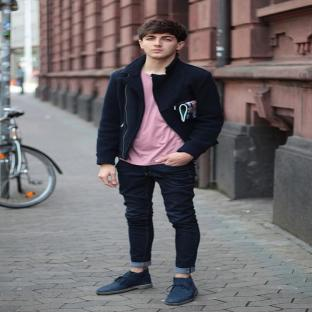Human: (96, 20, 223, 305)
